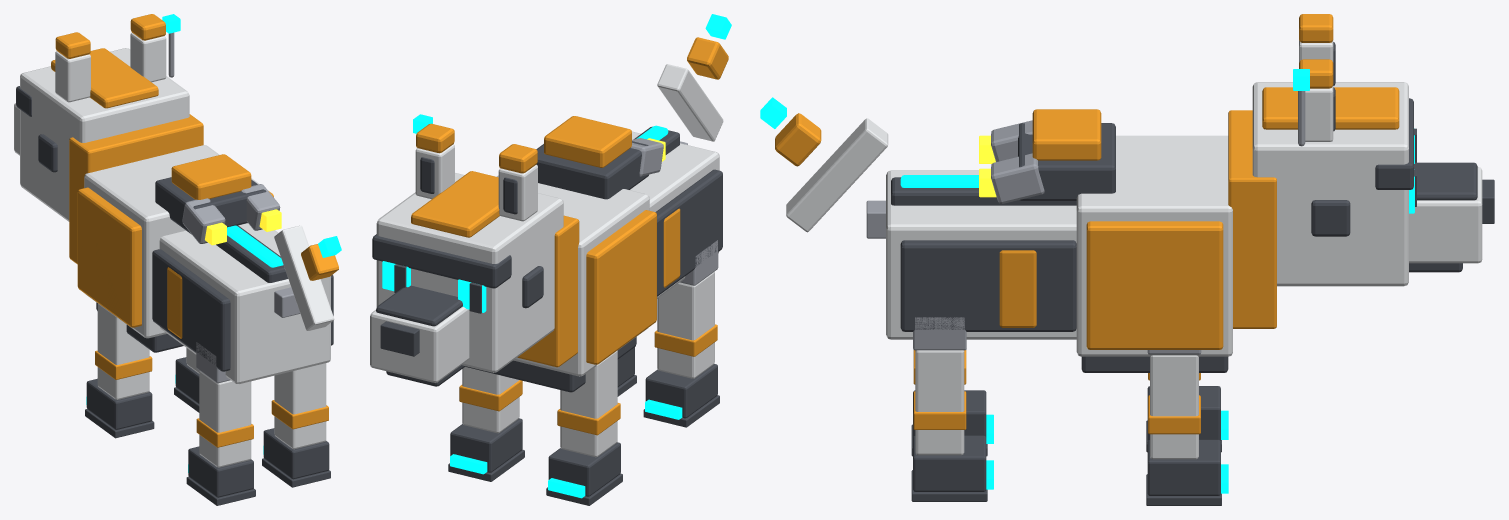
Rendered from minecraft_robot_dog.glb.
3 renders of one model, left to right at view 1: azimuth 30°, elevation 25°; view 2: azimuth 150°, elevation 25°; view 3: azimuth 270°, elevation 25°, orthographic. The views are drawn at different scales.
Parts seen in each view (by area): view 1: Dog_Body_Hind, Dog_Head, Dog_Chest_Plate_L, Dog_Chest_Main, Dog_Collar, Dog_Hind_Flank_L, Dog_Leg_BL_Leg, Dog_Leg_BR_Leg, Dog_Leg_FL_Leg, Dog_Tail, Dog_Head_Crest, Dog_Battery_Cell (+28 smaller); view 2: Dog_Head, Dog_Chest_Plate_L, Dog_Chest_Main, Dog_Snout, Dog_Hind_Flank_L, Dog_Leg_BL_Leg, Dog_Collar, Dog_Head_Crest, Dog_Leg_FL_Leg, Dog_Backpack_Mount, Dog_Head_VisorPlate, Dog_Battery_Cell (+33 smaller); view 3: Dog_Head, Dog_Chest_Plate_R, Dog_Chest_Main, Dog_Hind_Flank_R, Dog_Body_Hind, Dog_Collar, Dog_Snout, Dog_Tail, Dog_Leg_BR_Leg, Dog_Head_Crest, Dog_Leg_FR_Leg, Dog_Backpack_Mount (+23 smaller).
Part boxes in pixels (<box>): Dog_Body_Hind: <box>159,223,330,384</box>; Dog_Head: <box>20,48,189,221</box>; Dog_Chest_Plate_L: <box>77,187,141,327</box>; Dog_Chest_Main: <box>84,145,259,338</box>; Dog_Collar: <box>69,114,203,264</box>; Dog_Hind_Flank_L: <box>152,249,230,371</box>; Dog_Leg_BL_Leg: <box>199,370,251,467</box>; Dog_Leg_BR_Leg: <box>274,363,326,449</box>; Dog_Leg_FL_Leg: <box>97,303,149,399</box>; Dog_Tail: <box>274,225,334,330</box>; Dog_Head_Crest: <box>51,48,158,108</box>; Dog_Battery_Cell: <box>171,154,251,199</box>; Dog_Head: <box>376,173,563,372</box>; Dog_Chest_Plate_L: <box>586,210,656,364</box>; Dog_Chest_Main: <box>496,175,649,376</box>; Dog_Snout: <box>370,306,469,382</box>; Dog_Hind_Flank_L: <box>655,169,722,296</box>; Dog_Leg_BL_Leg: <box>657,271,714,378</box>; Dog_Collar: <box>517,215,579,367</box>; Dog_Head_Crest: <box>411,171,499,237</box>; Dog_Leg_FL_Leg: <box>560,350,617,457</box>; Dog_Backpack_Mount: <box>536,141,648,199</box>; Dog_Head_VisorPlate: <box>372,234,511,288</box>; Dog_Battery_Cell: <box>544,116,631,167</box>; Dog_Head: <box>1252,82,1408,286</box>; Dog_Chest_Plate_R: <box>1086,221,1223,349</box>; Dog_Chest_Main: <box>1076,135,1232,356</box>; Dog_Hind_Flank_R: <box>900,240,1076,331</box>; Dog_Body_Hind: <box>886,170,1076,339</box>; Dog_Collar: <box>1228,110,1276,328</box>; Dog_Snout: <box>1409,167,1482,263</box>; Dog_Tail: <box>786,118,888,232</box>; Dog_Leg_BR_Leg: <box>915,350,964,455</box>; Dog_Head_Crest: <box>1262,87,1399,129</box>; Dog_Leg_FR_Leg: <box>1150,355,1198,459</box>; Dog_Backpack_Mount: <box>1018,123,1115,200</box>.
Size of the model in its own units: 0.42 by 0.9675 by 1.5.
